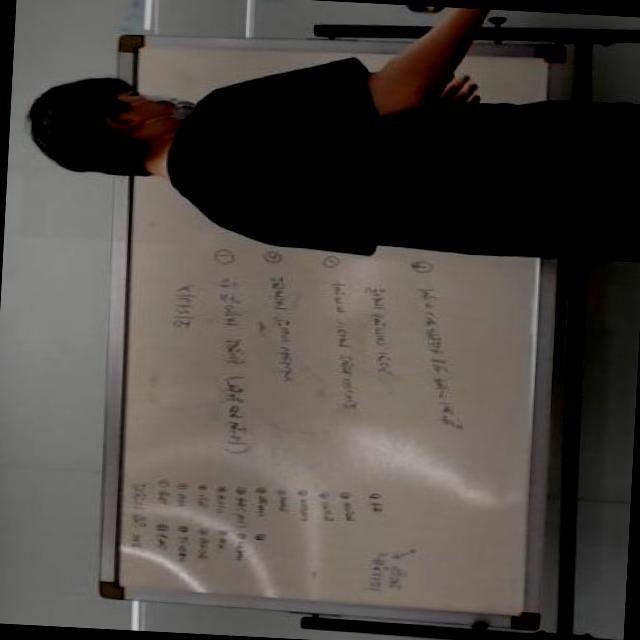Instructor: (13, 41, 590, 250)
White-board: (111, 42, 554, 622)
